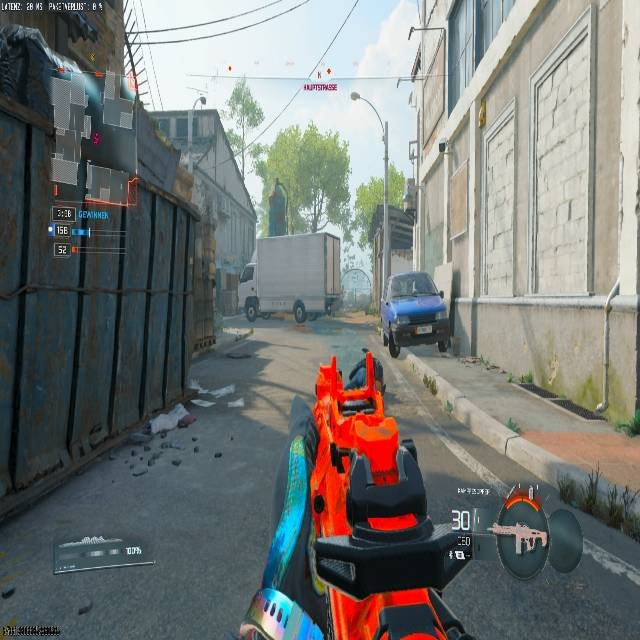player: (242, 289, 260, 332), (294, 297, 305, 320)
